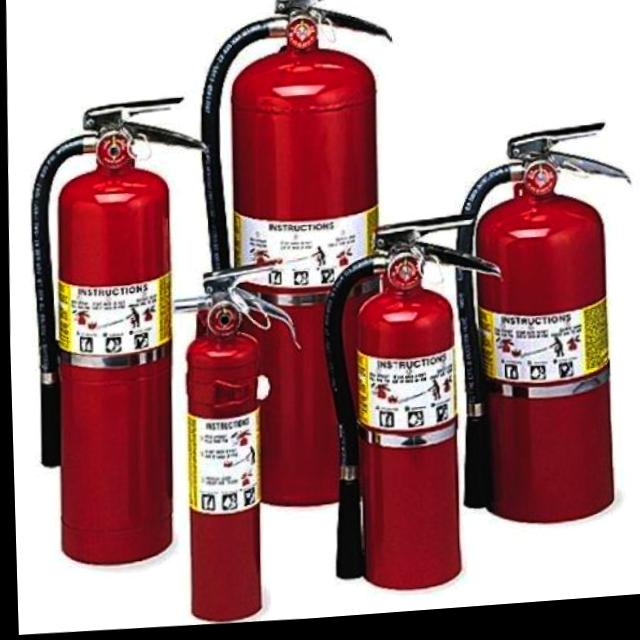FireExtinguisher: (183, 0, 406, 524), (13, 90, 221, 579), (440, 120, 640, 541), (312, 214, 511, 604), (153, 256, 308, 630)
